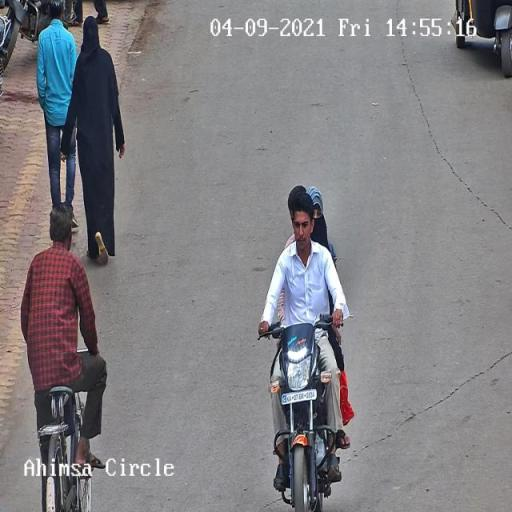tripple riding: (261, 182, 350, 338)
